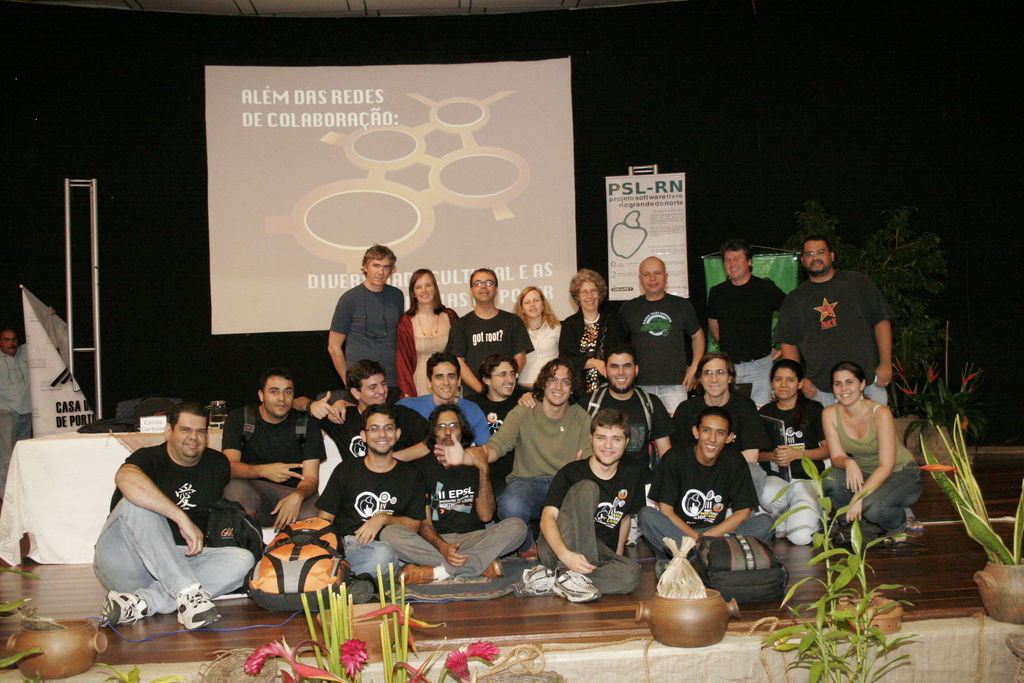Footwear: (197, 566, 575, 605), (175, 582, 222, 630), (97, 586, 143, 628), (554, 568, 598, 597), (396, 562, 438, 584), (906, 515, 924, 531)
